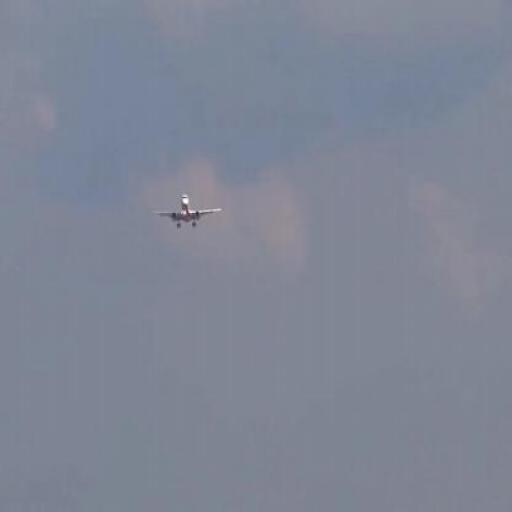aircraft: (146, 188, 222, 230)
